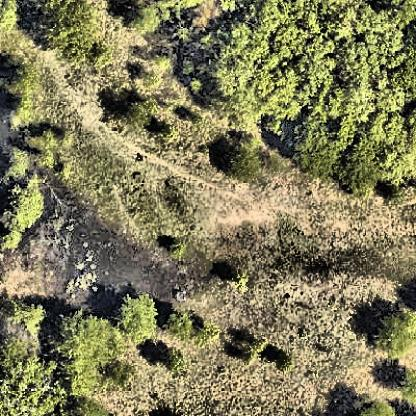tree-top: (231, 7, 334, 114), (333, 1, 410, 91), (52, 311, 118, 397), (31, 1, 111, 69), (1, 335, 59, 414), (339, 97, 416, 155), (212, 61, 272, 127), (2, 176, 47, 251), (340, 146, 393, 204), (293, 125, 342, 177), (114, 295, 160, 347), (372, 306, 416, 359), (4, 64, 41, 126), (27, 128, 79, 167), (226, 134, 266, 183), (377, 151, 416, 193), (134, 61, 174, 97), (127, 5, 168, 37), (124, 97, 160, 129), (166, 306, 198, 340), (5, 145, 32, 183), (159, 346, 190, 374), (355, 400, 405, 416), (395, 367, 416, 400), (165, 237, 191, 262), (1, 1, 20, 33), (229, 269, 252, 295)
